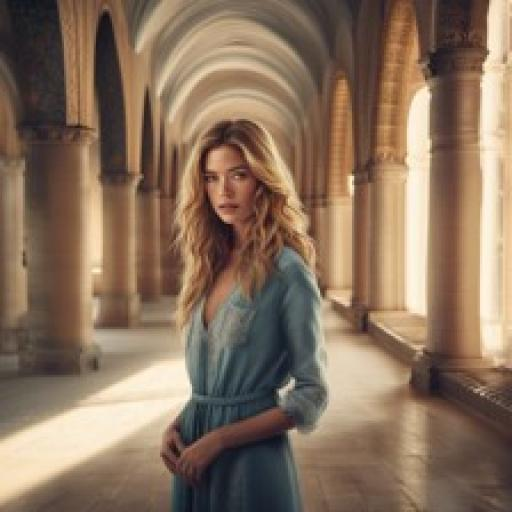human: (160, 118, 330, 512)
